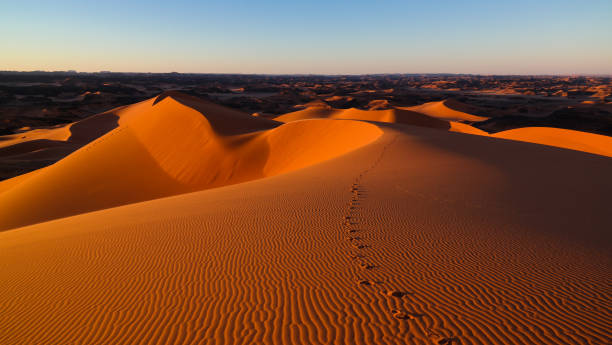animal_foot_print: (343, 138, 423, 319), (343, 149, 385, 249), (349, 136, 396, 221), (343, 178, 368, 249), (343, 181, 368, 248), (344, 181, 365, 233), (343, 202, 360, 241), (426, 329, 460, 344), (391, 309, 422, 319), (430, 336, 460, 344), (391, 309, 413, 319), (434, 337, 460, 344), (384, 290, 410, 297), (357, 278, 382, 285), (347, 207, 358, 221), (348, 197, 361, 208), (348, 195, 362, 205), (350, 184, 365, 193), (349, 211, 359, 224), (348, 208, 358, 221), (344, 215, 357, 225), (348, 196, 361, 206), (347, 204, 358, 215), (359, 262, 375, 269), (349, 194, 360, 204), (348, 203, 359, 213), (351, 179, 361, 190), (350, 183, 362, 192), (351, 253, 366, 260), (350, 187, 365, 194), (350, 183, 361, 192), (349, 194, 360, 203), (350, 186, 364, 193), (351, 193, 363, 201), (348, 201, 360, 209), (357, 279, 372, 285), (350, 182, 360, 191), (349, 203, 359, 212), (409, 312, 424, 318), (351, 192, 362, 200), (352, 194, 364, 201), (348, 201, 360, 208), (348, 200, 358, 208), (354, 173, 362, 183), (352, 243, 368, 248), (351, 189, 362, 196), (351, 190, 362, 196), (352, 192, 365, 197), (350, 185, 359, 192), (352, 193, 361, 200), (351, 193, 360, 200), (349, 198, 359, 204), (346, 236, 361, 240), (350, 188, 358, 195), (344, 221, 357, 225), (373, 280, 383, 285), (351, 183, 359, 189), (344, 216, 352, 220), (349, 205, 357, 209), (363, 169, 369, 174), (347, 229, 357, 232), (370, 162, 375, 168), (352, 182, 358, 187), (358, 174, 363, 179), (352, 183, 358, 187)
